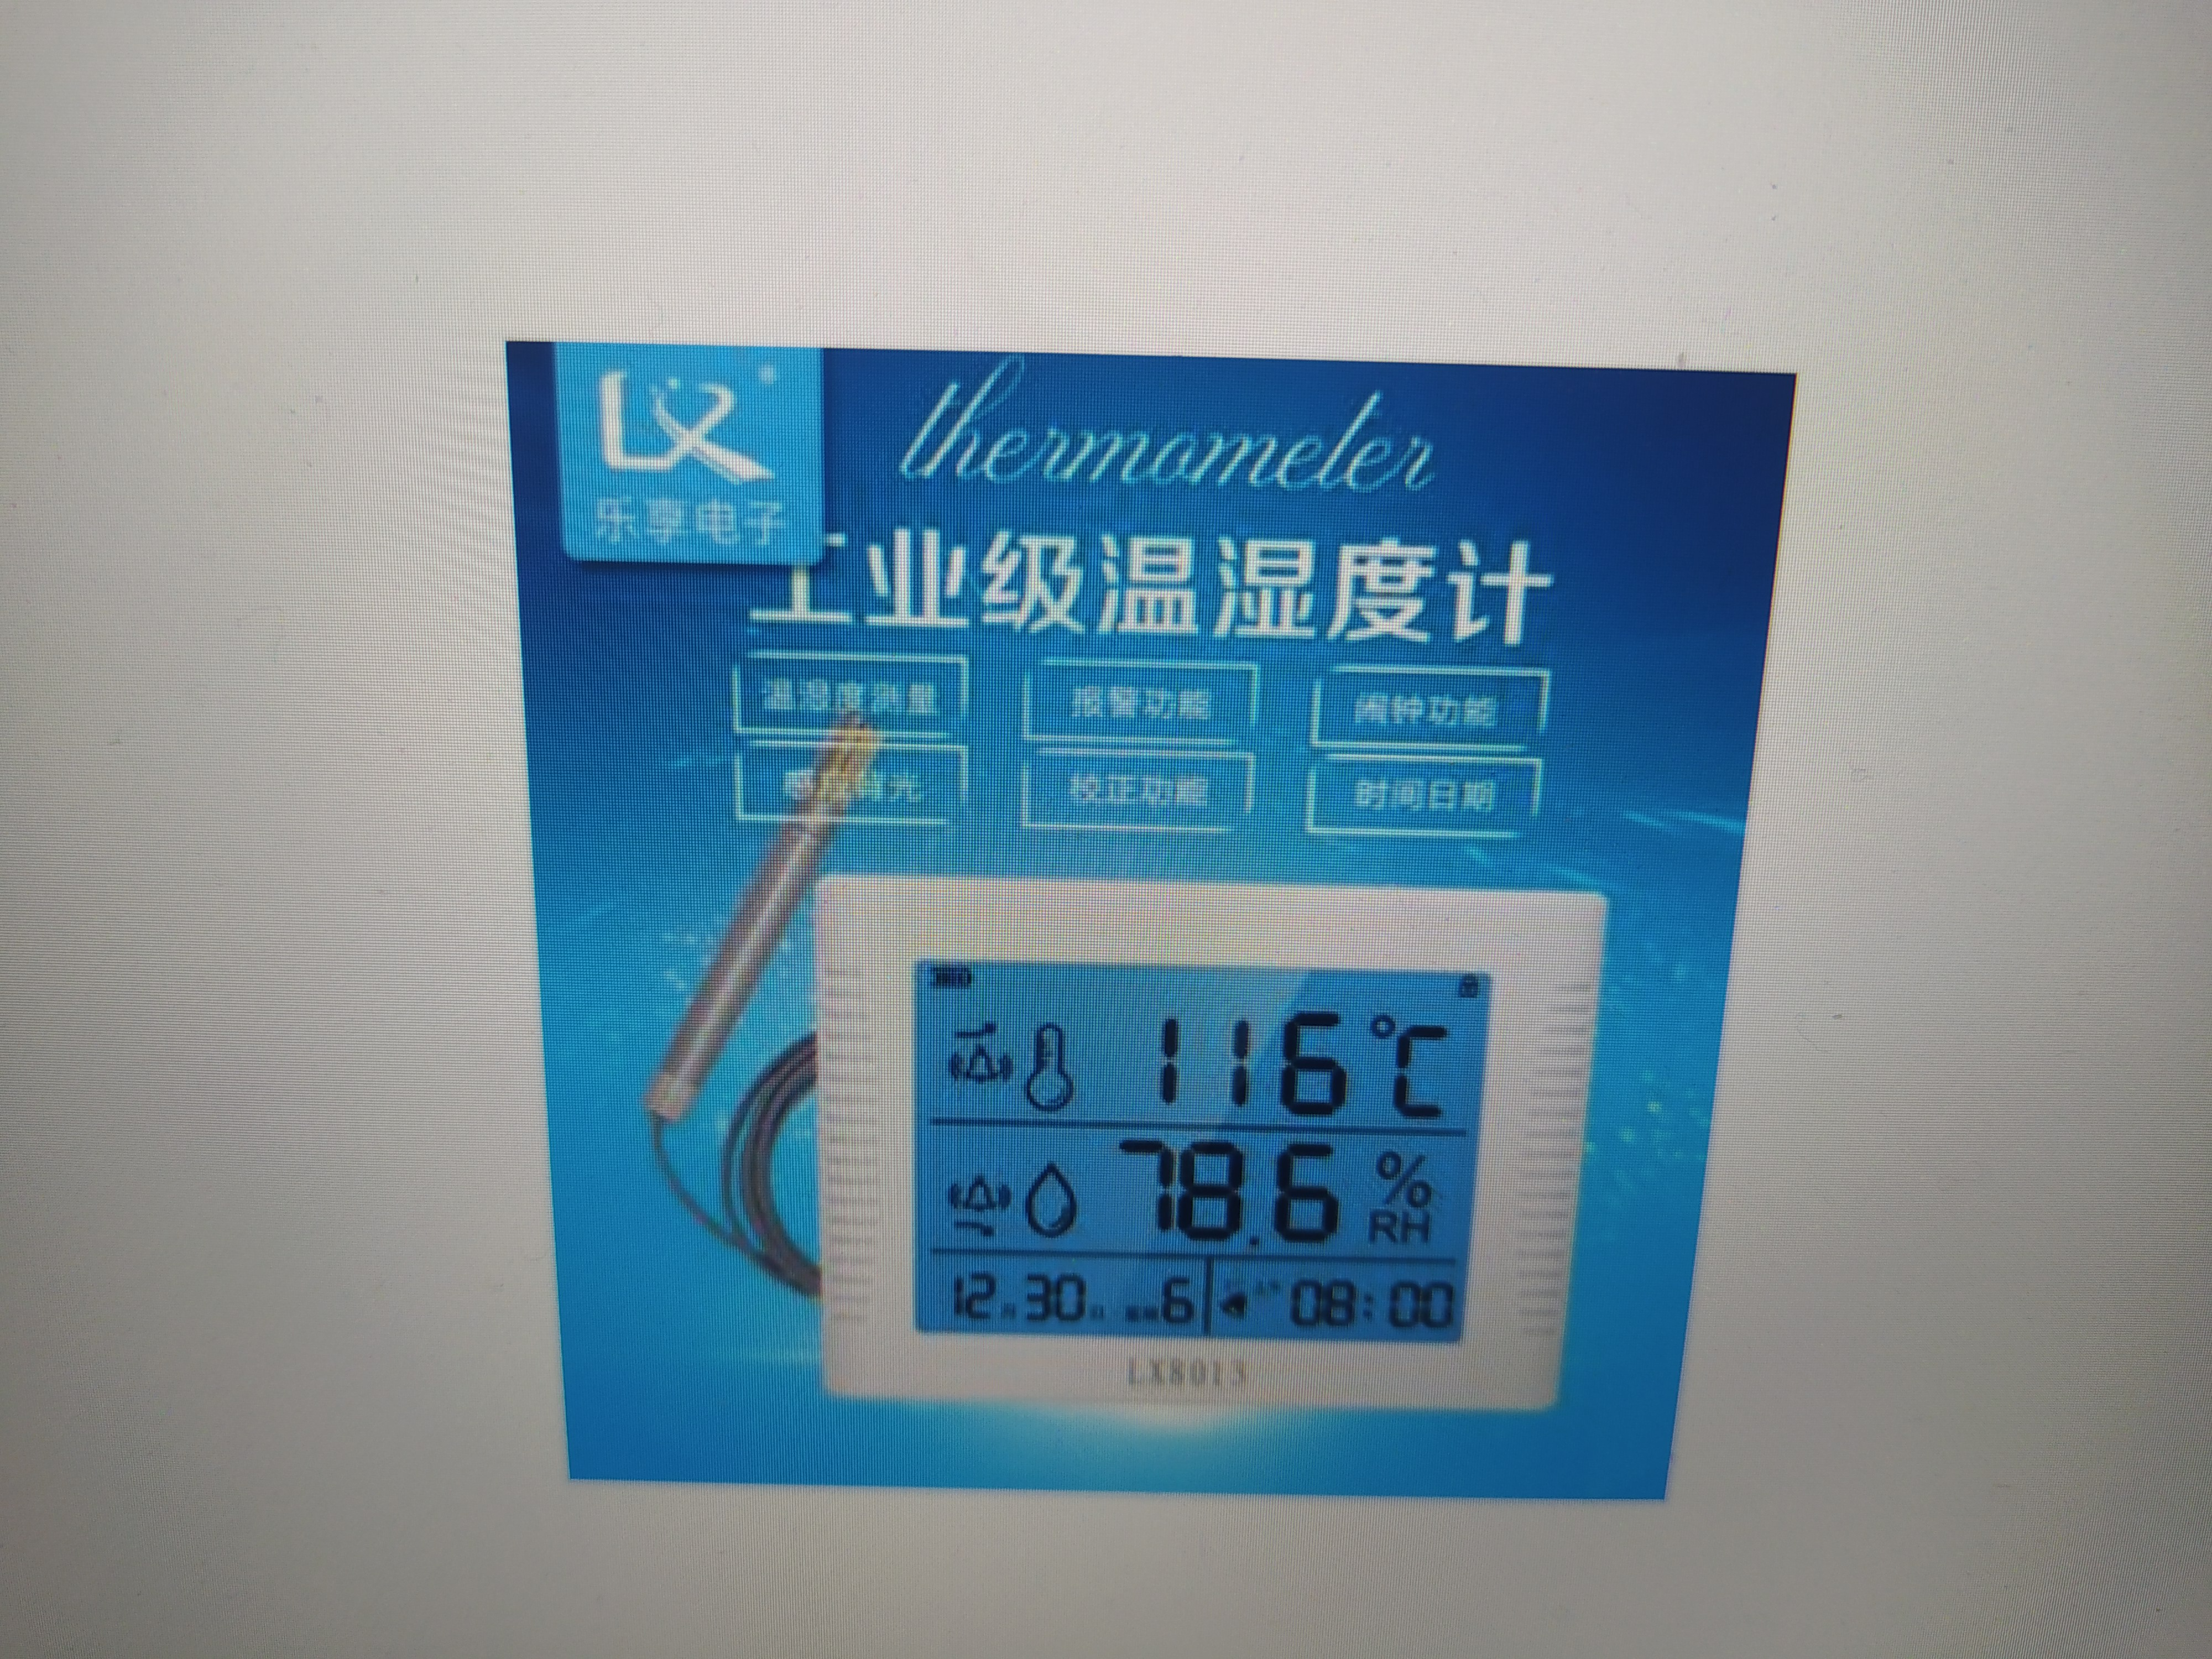.: (1247, 1141, 1270, 1255)
0: (1381, 1277, 1423, 1335), (1423, 1274, 1454, 1335), (1057, 1269, 1089, 1324), (1289, 1274, 1318, 1331)
1: (1143, 1006, 1193, 1105), (1219, 1000, 1263, 1108), (944, 1265, 965, 1323)
2: (967, 1263, 995, 1321)
3: (1017, 1269, 1054, 1328)
6: (1271, 1141, 1345, 1253), (1282, 1002, 1353, 1115), (1163, 1272, 1197, 1331)
7: (1113, 1134, 1179, 1248)
8: (1181, 1136, 1244, 1249), (1322, 1274, 1359, 1335)
